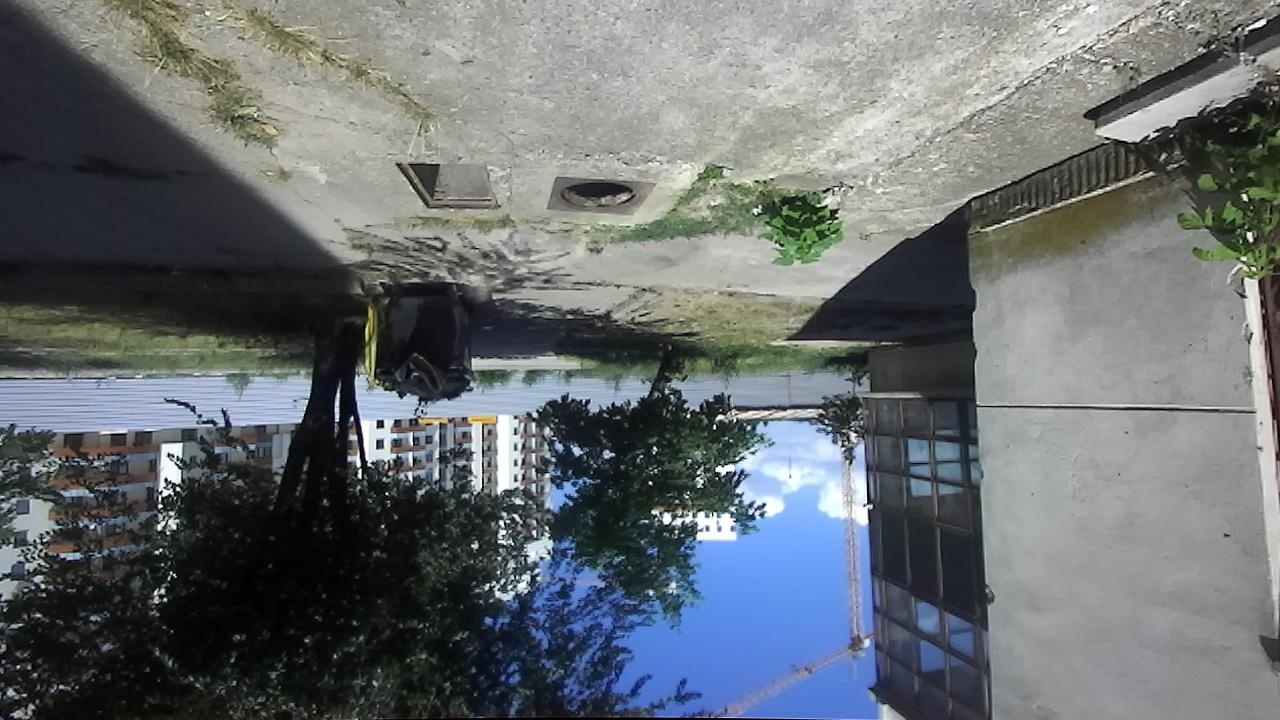drain: (389, 158, 502, 214), (554, 179, 642, 212)
